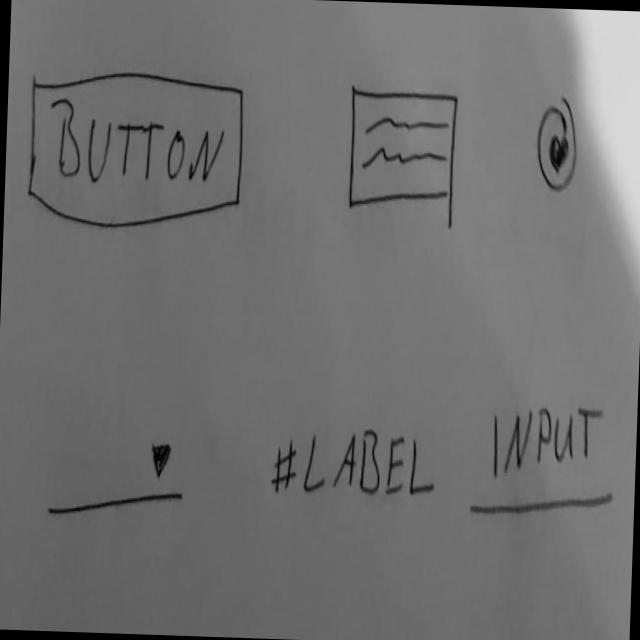button: (25, 64, 249, 236)
icon-button: (536, 94, 581, 196)
input: (468, 397, 619, 525)
label: (268, 422, 441, 509)
select: (46, 430, 189, 527)
textarea: (347, 81, 460, 219)
